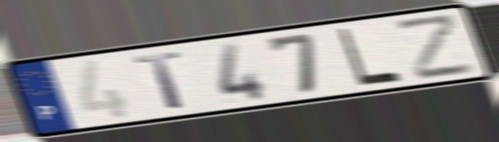4: (77, 58, 134, 120), (215, 42, 270, 103)
7: (266, 31, 321, 96)
L: (334, 25, 405, 88)
T: (130, 49, 190, 112)
Z: (393, 11, 479, 83)
